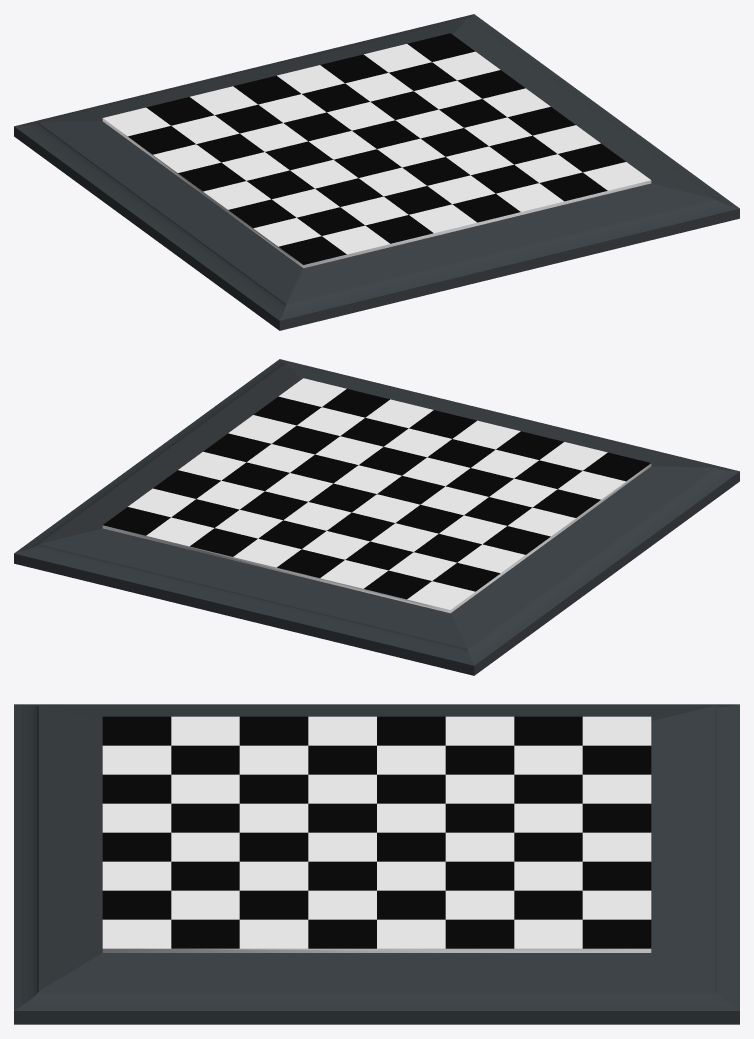
Rendered from board.glb.
3 renders of one model, top to bottom at view 1: azimuth 30°, elevation 25°; view 2: azimuth 150°, elevation 25°; view 3: azimuth 270°, elevation 25°, orthographic. The views are drawn at different scales.
Visible parts, largest first — view 1: Chess Board.001; view 2: Chess Board.001; view 3: Chess Board.001.
Boxes of the visible parts, box(x1,y1,x2,y2) form: Chess Board.001: box(14, 14, 739, 330); Chess Board.001: box(14, 359, 739, 675); Chess Board.001: box(14, 704, 739, 1024).
Bounding box in the file's own units: 18 × 1.06 × 18.
Materials: 1 (1 with a texture image).
